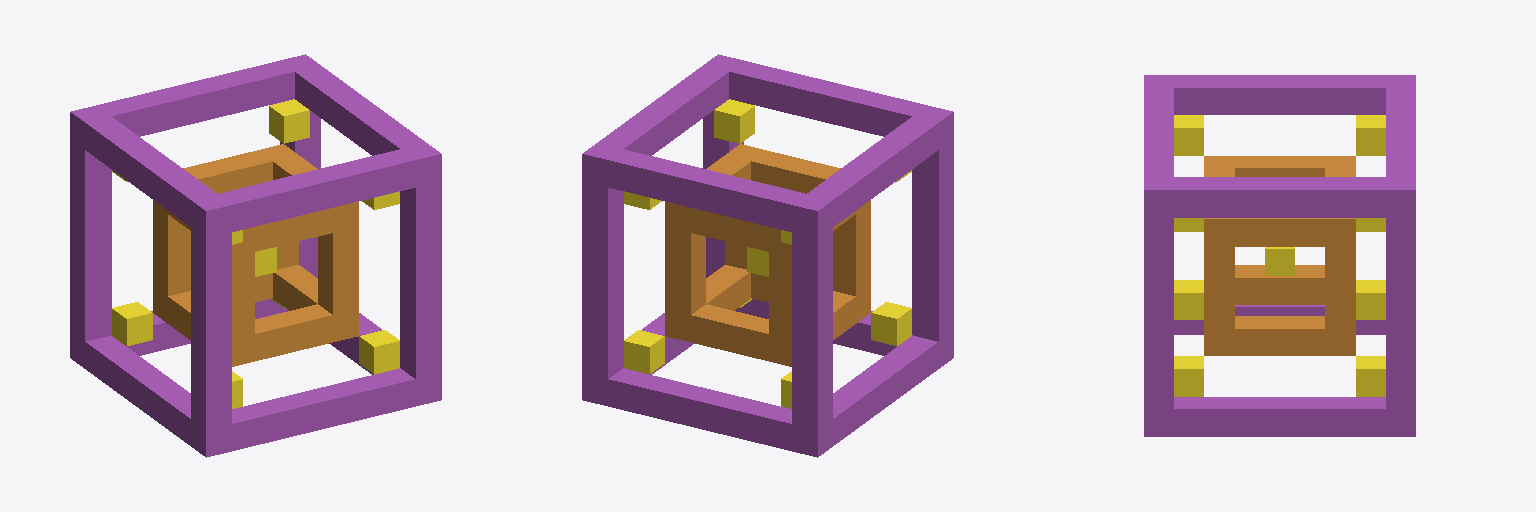
The picture shows the model from 3 angles: view 1: azimuth 30°, elevation 25°; view 2: azimuth 150°, elevation 25°; view 3: azimuth 270°, elevation 25°; orthographic projection.
Parts seen in each view (by area): view 1: group[number redacted], group[number redacted], group[number redacted]; view 2: group[number redacted], group[number redacted], group[number redacted]; view 3: group[number redacted], group[number redacted], group[number redacted].
Boxes of the visible parts, box(x1,y1,x2,y2) form: group[number redacted]: box(70, 54, 441, 457); group[number redacted]: box(153, 144, 358, 366); group[number redacted]: box(112, 99, 399, 408); group[number redacted]: box(582, 54, 953, 457); group[number redacted]: box(665, 144, 870, 366); group[number redacted]: box(624, 99, 911, 408); group[number redacted]: box(1144, 75, 1415, 436); group[number redacted]: box(1204, 156, 1355, 355); group[number redacted]: box(1174, 115, 1385, 396).
Size of the model in its own units: 4.23 by 4.23 by 4.23.